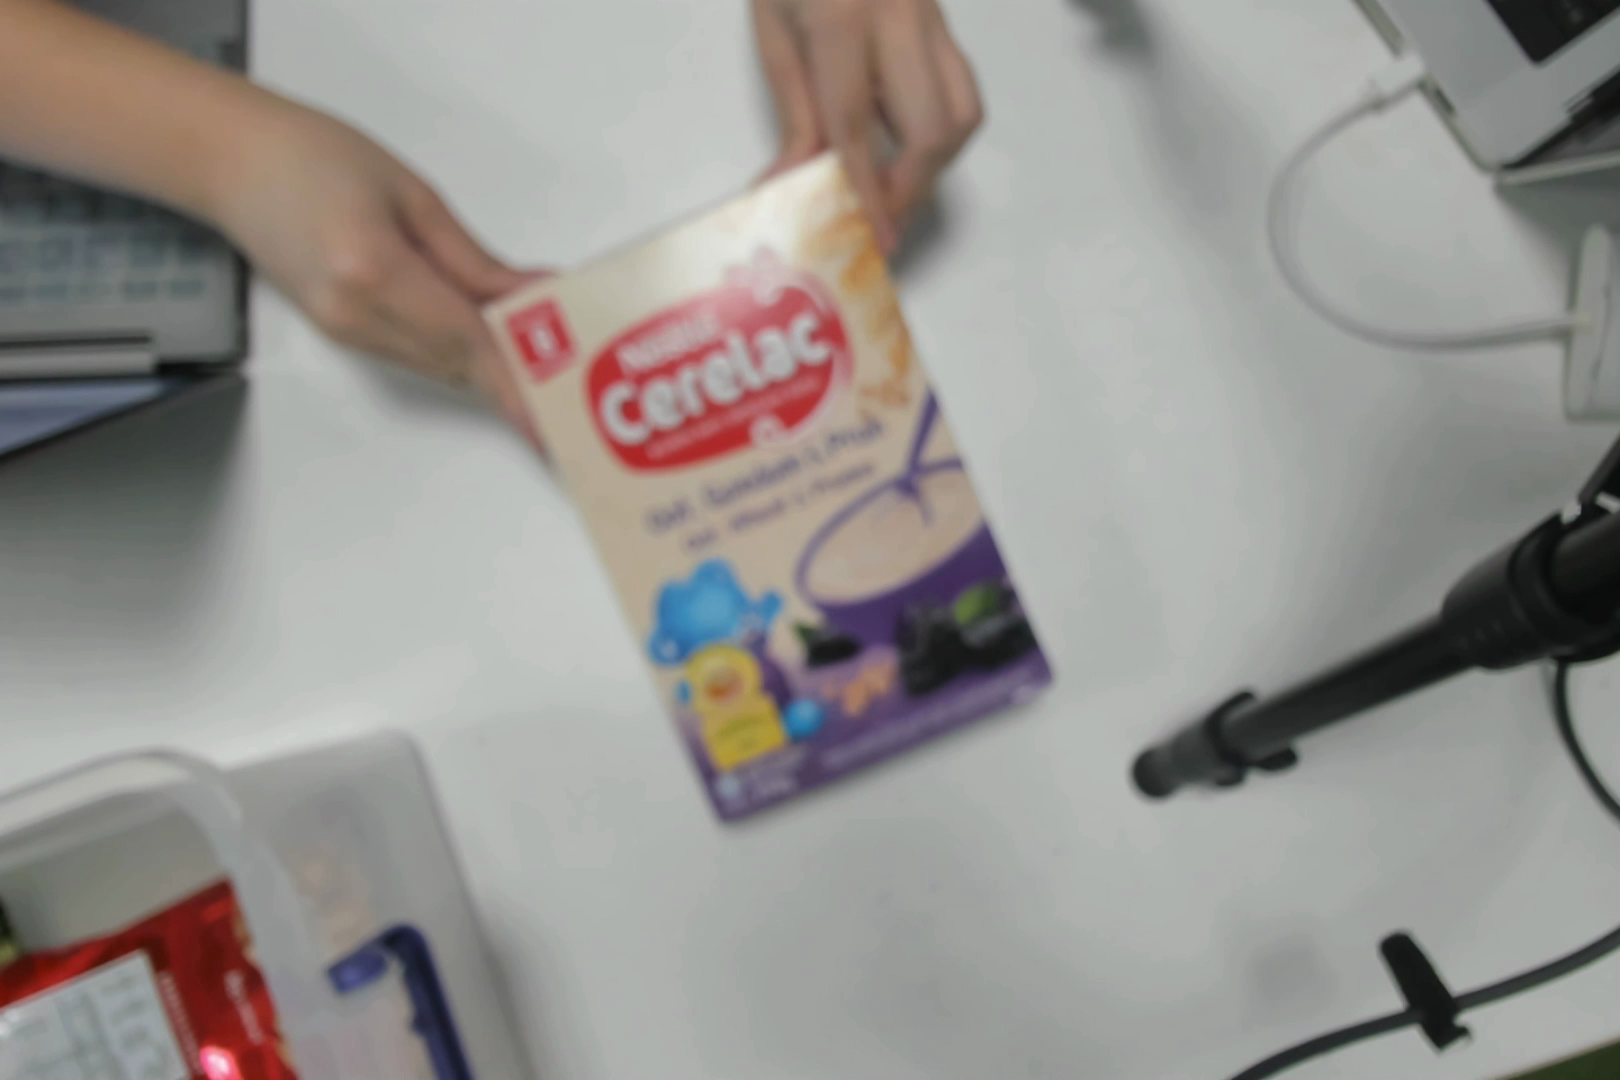d: (503, 292, 1034, 832)
